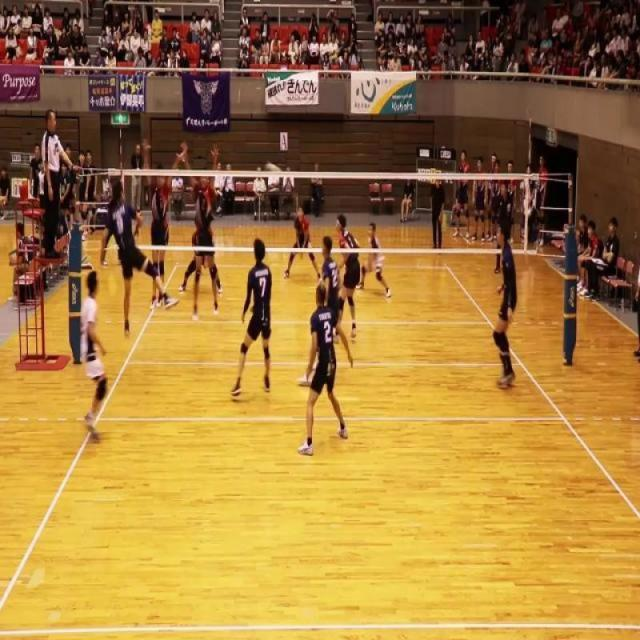volleyball: (264, 162, 283, 174)
